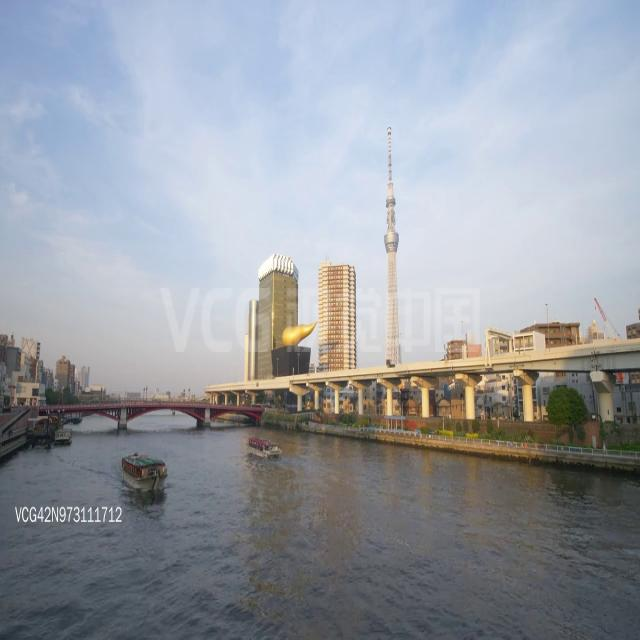passenger ship: (121, 441, 172, 506)
